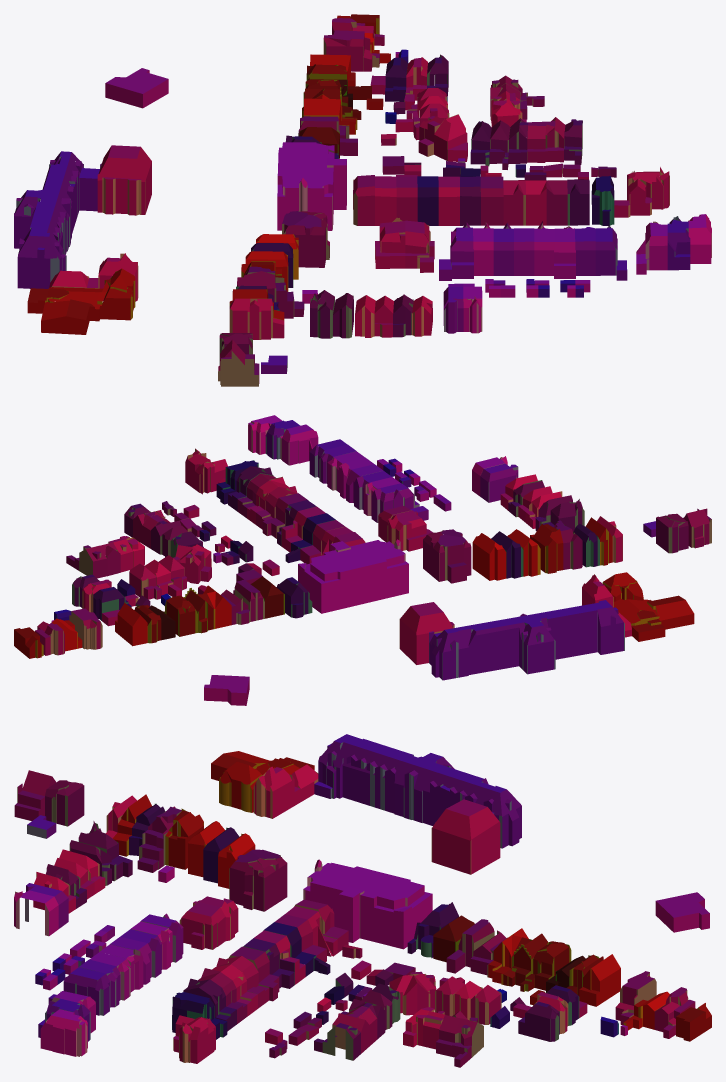
The model's file is buildings_6_12.glb.
3 renders of one model, top to bottom at view 1: azimuth 30°, elevation 25°; view 2: azimuth 150°, elevation 25°; view 3: azimuth 270°, elevation 25°, orthographic. The views are drawn at different scales.
Parts seen in each view (by area): view 1: buildings_6_12; view 2: buildings_6_12; view 3: buildings_6_12.
Boxes of the visible parts, x1,y1,x2,y2 form: buildings_6_12: (14,14,711,386); buildings_6_12: (14,415,711,705); buildings_6_12: (14,734,711,1067).
Bounding box in the file's own units: 215 × 17.67 × 208.
